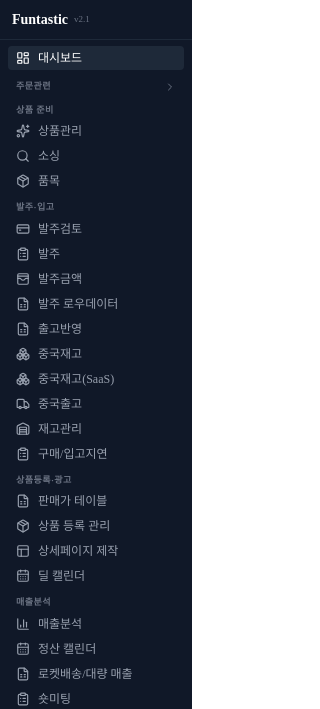
Test: Sidebar › opens a collapsed order-related section
This screenshot has width=320, height=709.
expect the text "전체 주문" is not shown: met
Click the button "주문관련".
click(96, 87)  # box [8,78,184,96]
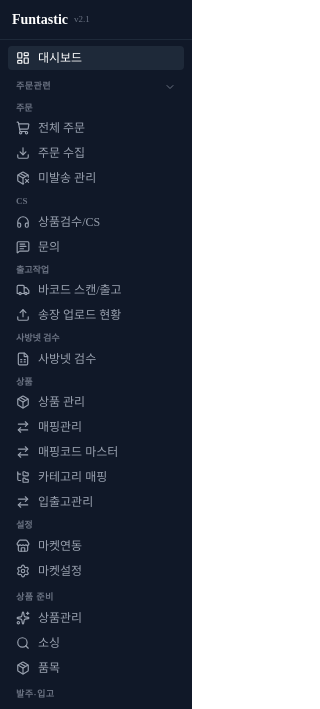
expect the text "전체 주문" is shown: met, box [38,120,85,136]
